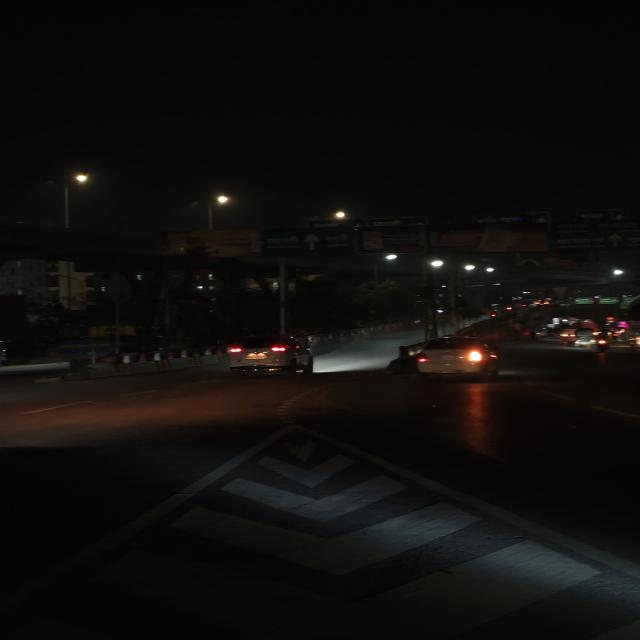car: (406, 334, 508, 382), (221, 332, 321, 378), (570, 327, 600, 349)
